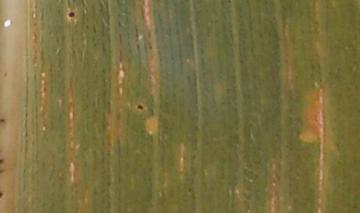tarspot: (67, 10, 75, 18), (135, 103, 144, 110), (1, 116, 6, 124), (1, 157, 5, 165), (1, 191, 4, 199)
